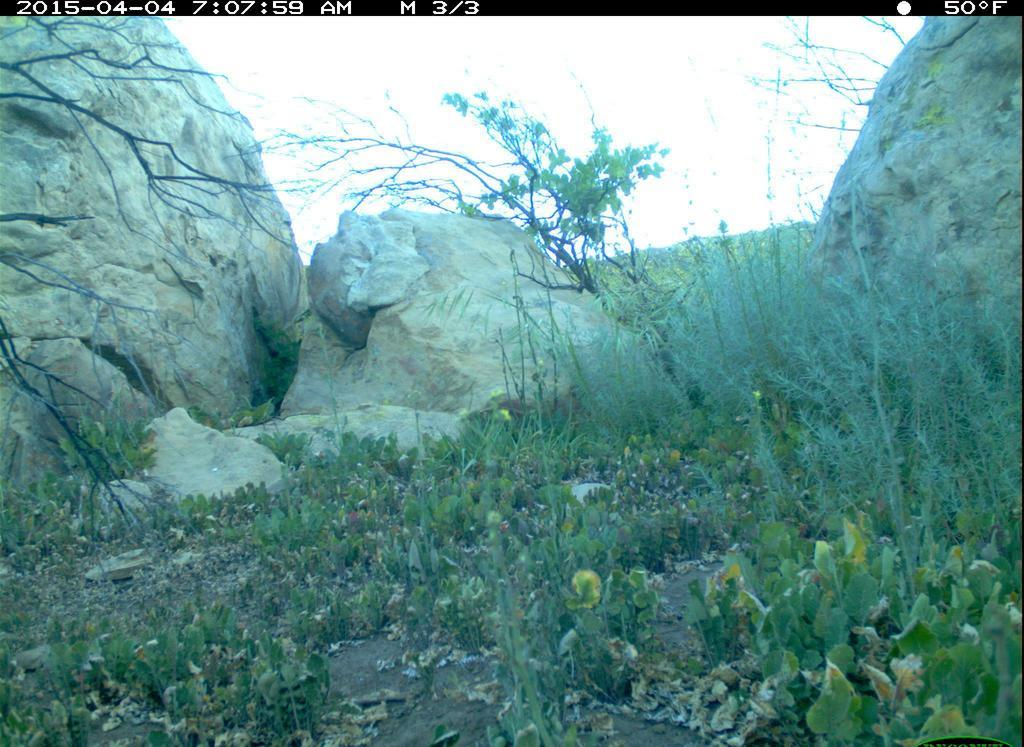coyote: (483, 380, 590, 427)
